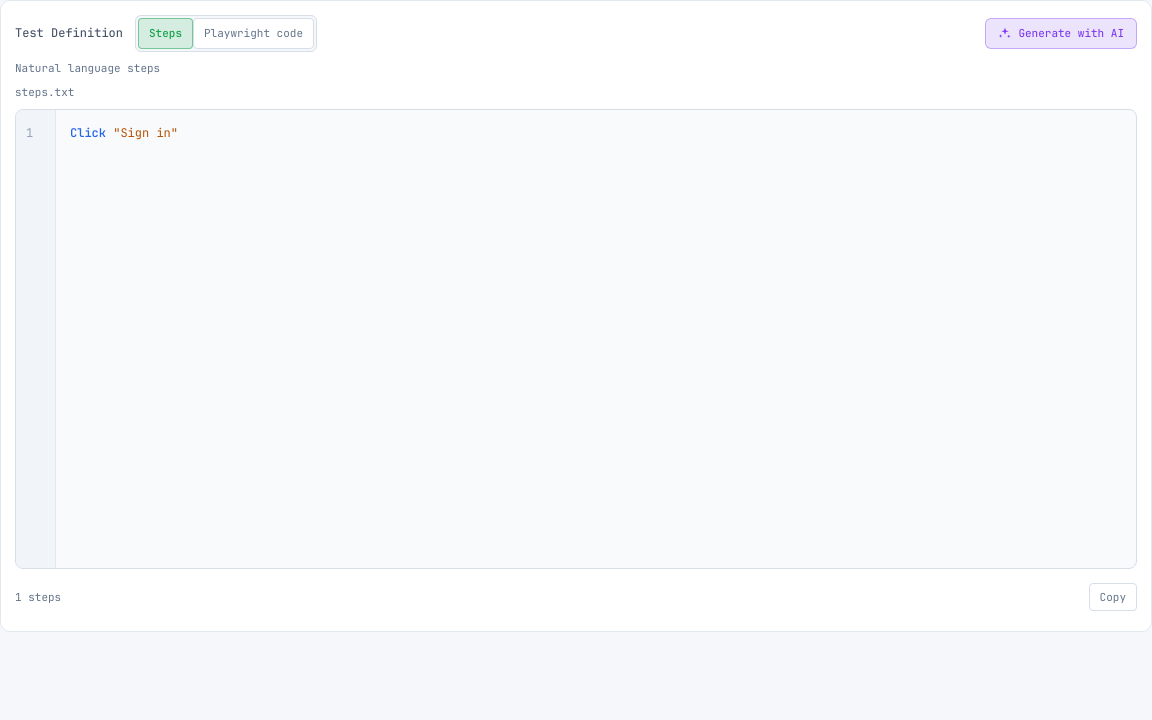
Test: TestCaseEditorPanel › shows copied feedback after clicking the Playwright copy button
What coordinates should you click on to do the following:
click the button "Playwright code"
I would click on:
 (254, 33)
Its box is [193,18,314,48].
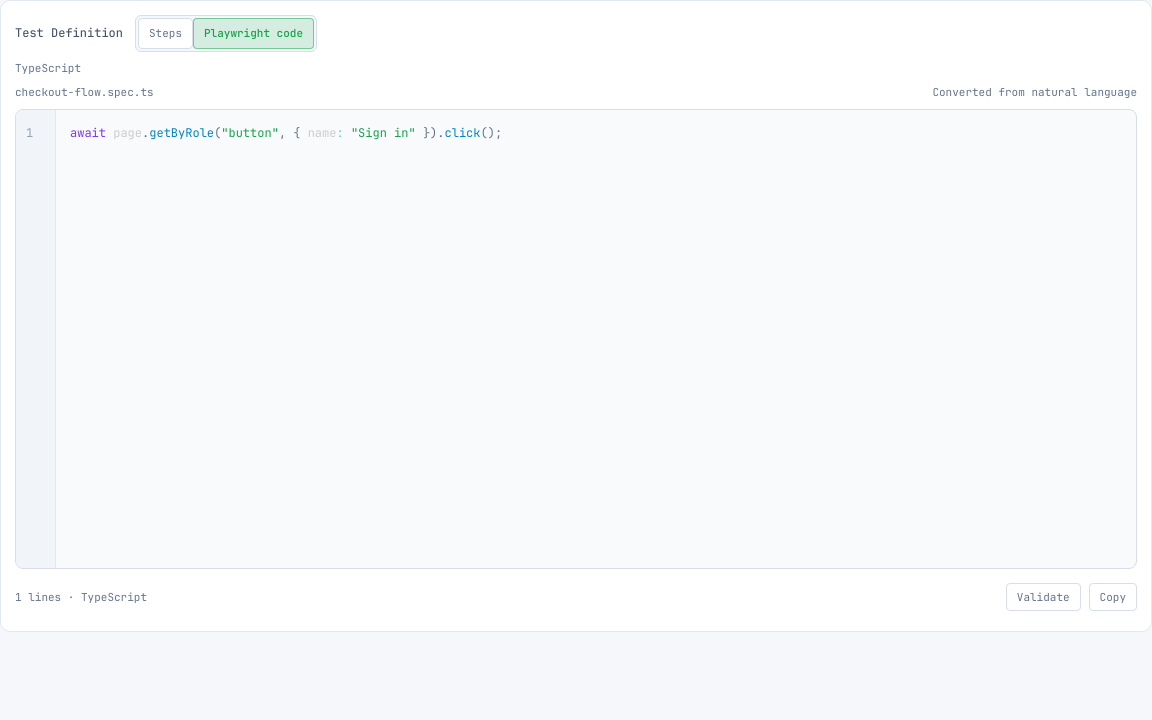
What coordinates should you click on to do the following:
click the button "Copy"
I would click on:
 (1113, 597)
Its box is [1089,582,1137,611].
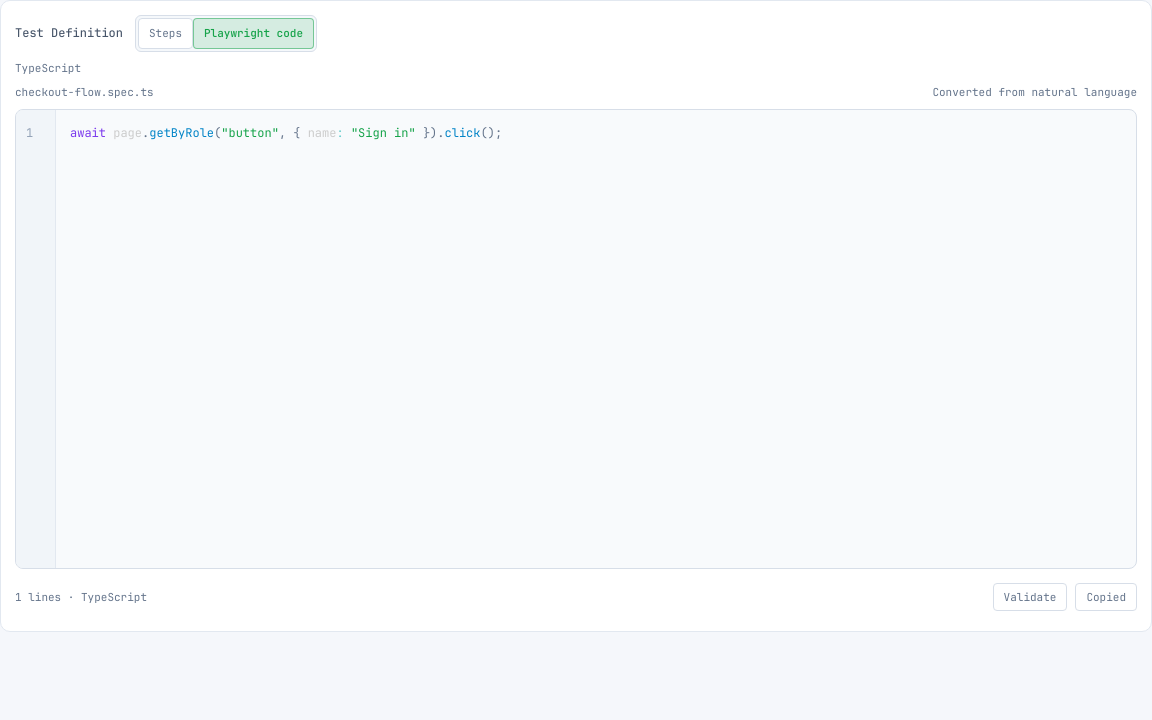
Now the button "Copied" is shown, box [1075,582,1137,611]
